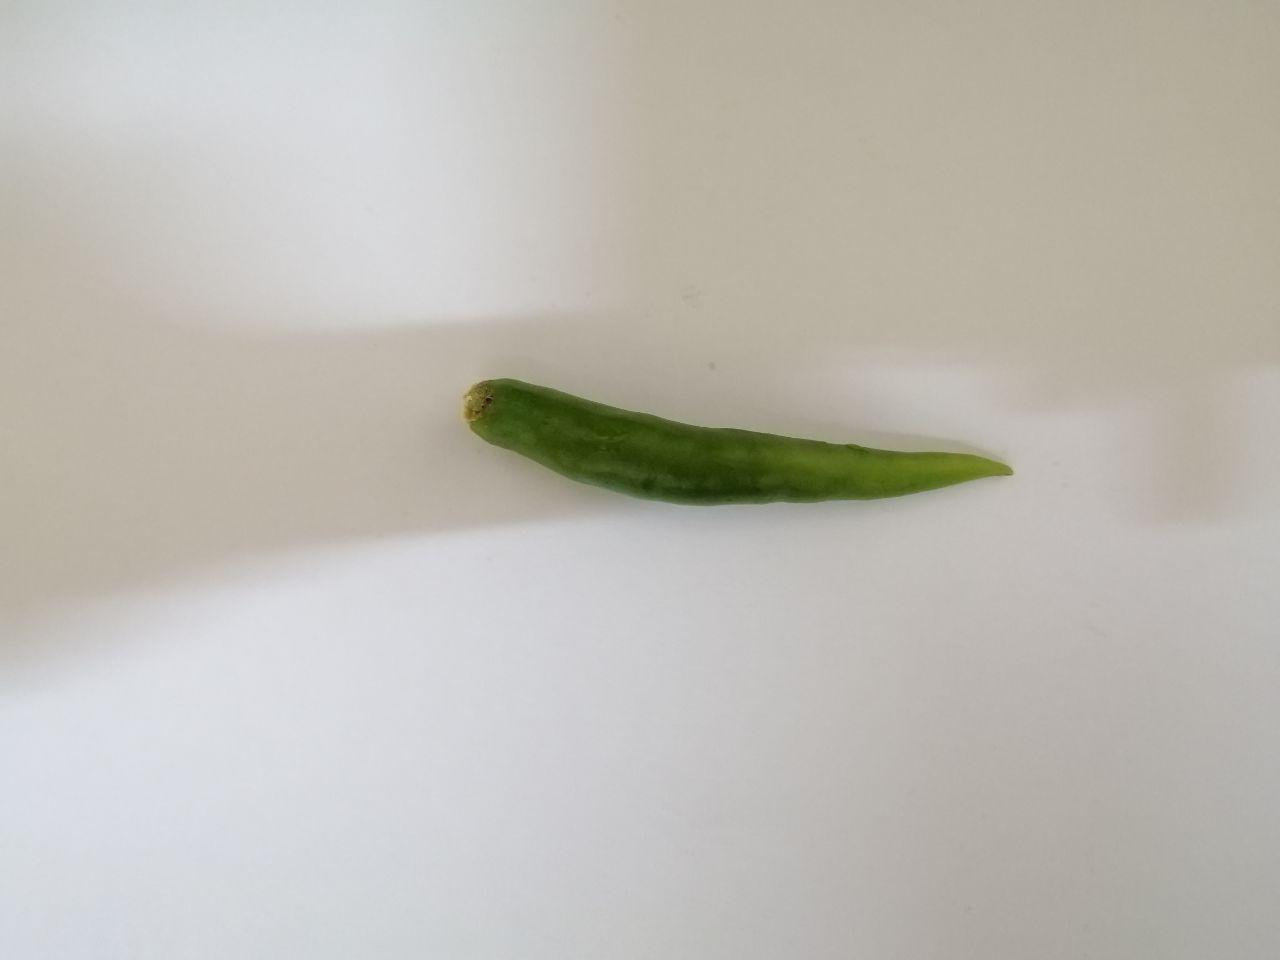lada hijau: (443, 355, 1037, 565)
